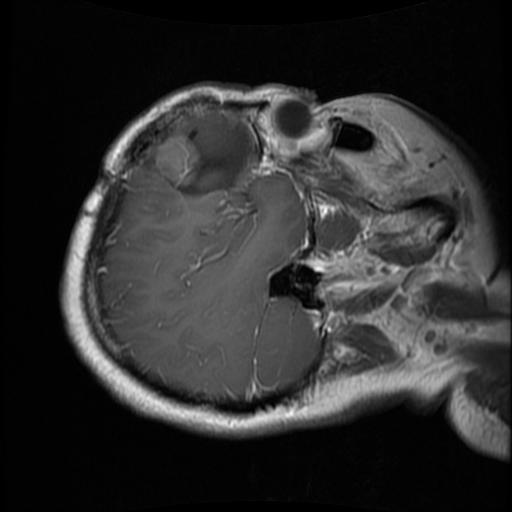glioma: (155, 116, 250, 195)
